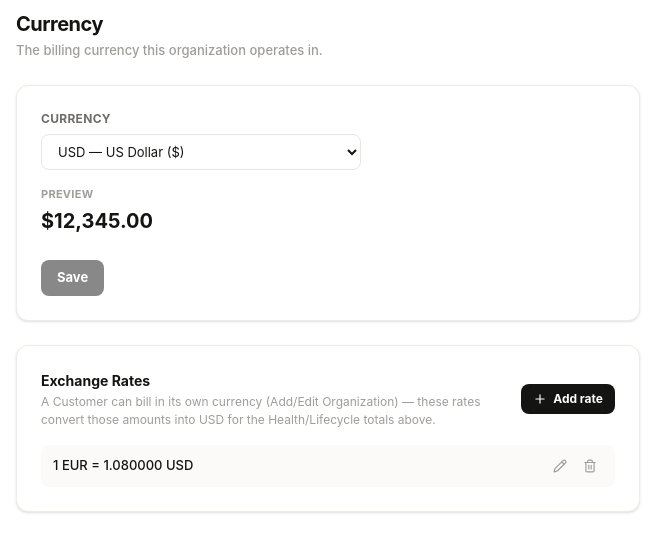
CurrencyPage › Exchange Rates › editing a rate PATCHes the new value in place
Expected: the text "1 EUR = 1.080000 USD" is shown, 53,456 -> 193,475
Click the button named "Edit rate for EUR". click: (560, 466)
box: 547,452 -> 573,478
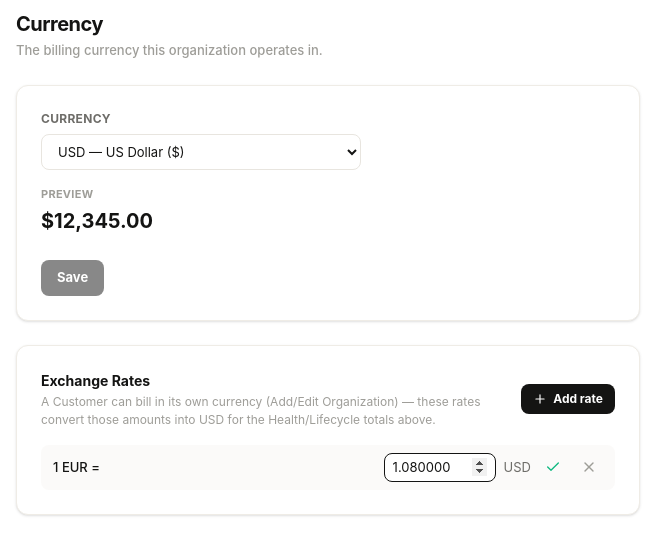
Replace the text in the number field showing "1.080000" with "1.12". click: (440, 467)
box: 384,452 -> 496,482
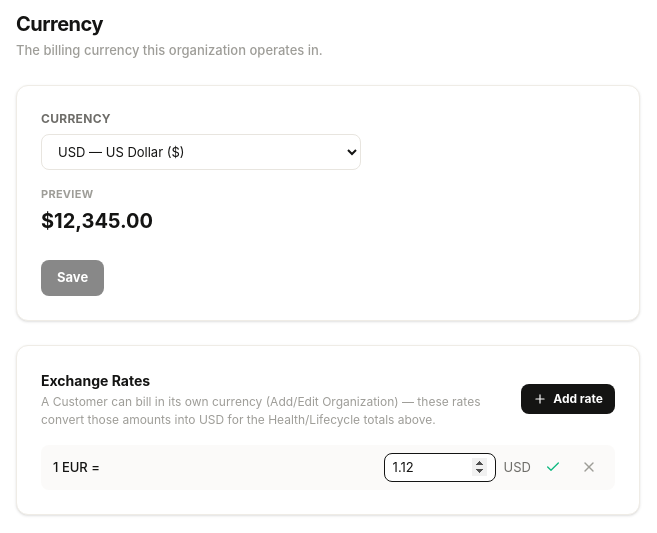
Click the button named "Save rate". click: (553, 467)
box: 539,453 -> 567,481
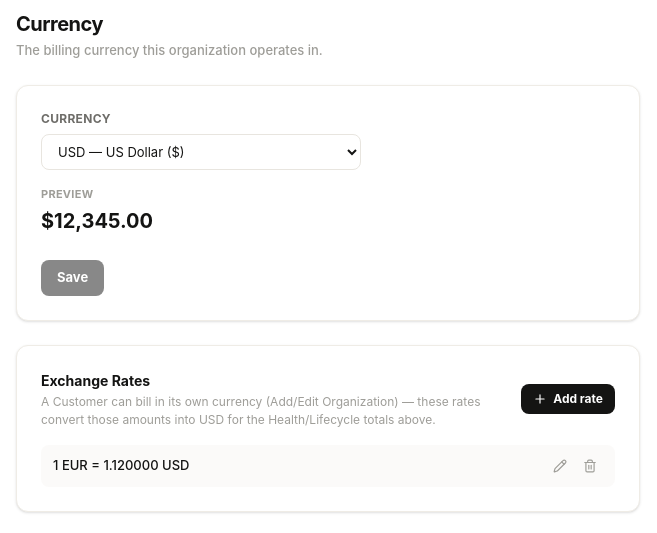
Now the text "1 EUR = 1.120000 USD" is shown, box 53,456 -> 189,475
